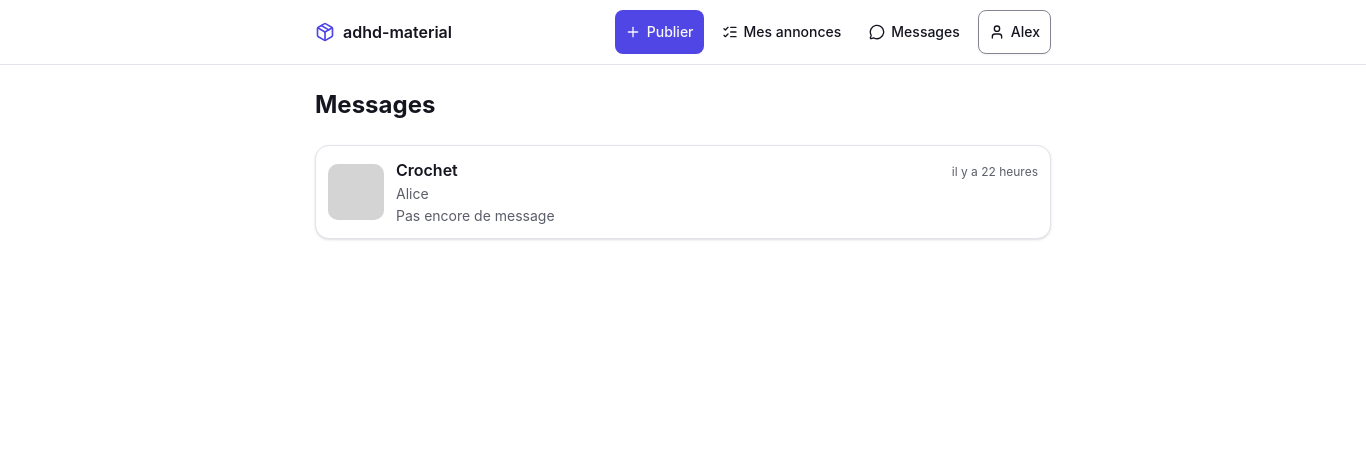
Scenario: lien Messages de l'en-tête › un seul abonnement user:<uid> pour toute l'app, même en changeant de page
Check: the heading "Messages" is shown, box [315,90,435,119]
What coordinates should you click on to do the following:
click the link "Crochet il y a 22 heures Alice Pas encore de message"
I would click on:
 (356, 192)
Its box is [315,145,1051,239].
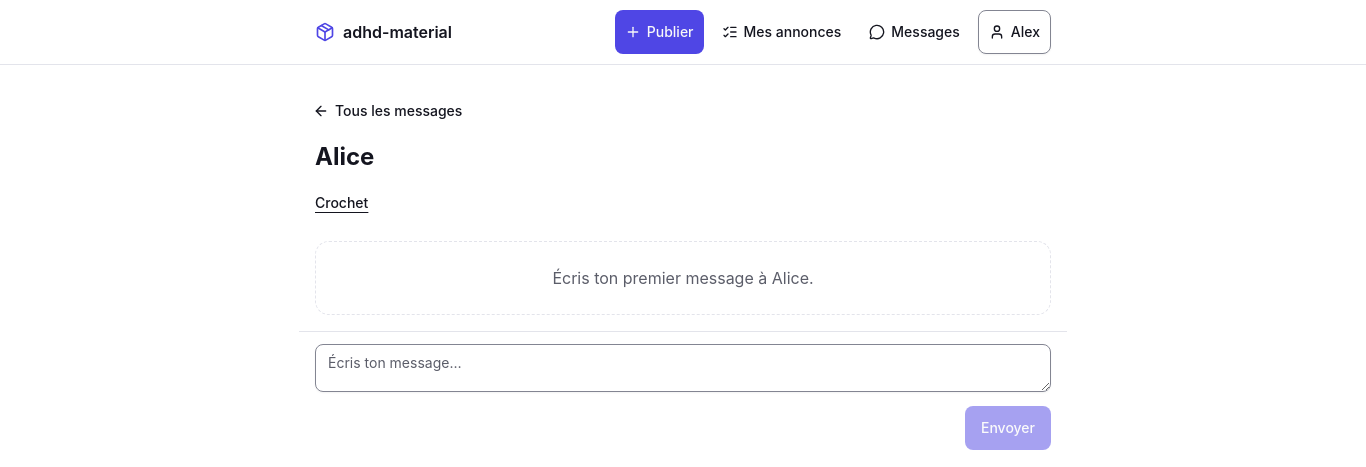
Check: the heading "Alice" is shown, box [315,142,374,171]
